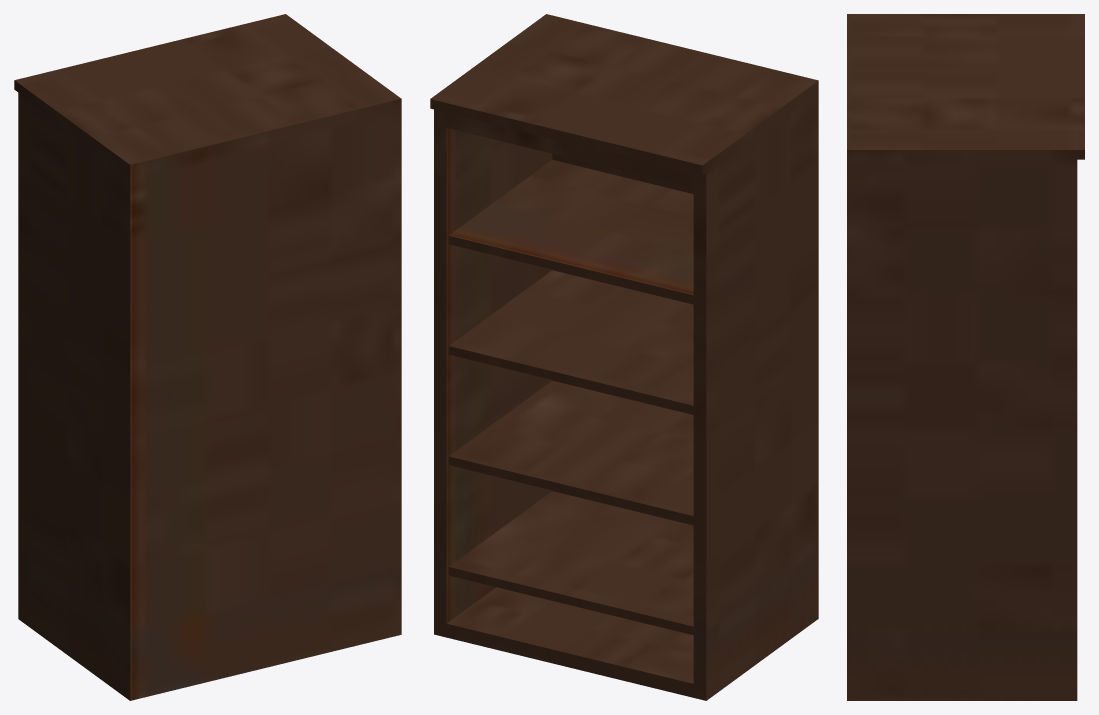
File: Closet39.glb
The picture shows the model from 3 angles, left to right: view 1: azimuth 30°, elevation 25°; view 2: azimuth 150°, elevation 25°; view 3: azimuth 270°, elevation 25°; orthographic projection. The views are drawn at different scales.
Parts seen in each view (by area): view 1: Closet39_model; view 2: Closet39_model; view 3: Closet39_model.
Part boxes in pixels (x1,y1,x2,y2): Closet39_model: (14,14,401,700); Closet39_model: (430,14,818,700); Closet39_model: (847,14,1084,700).
Bounding box in the file's own units: 1.37 × 2.58 × 1.01.
Materials: 1 (1 with a texture image).
